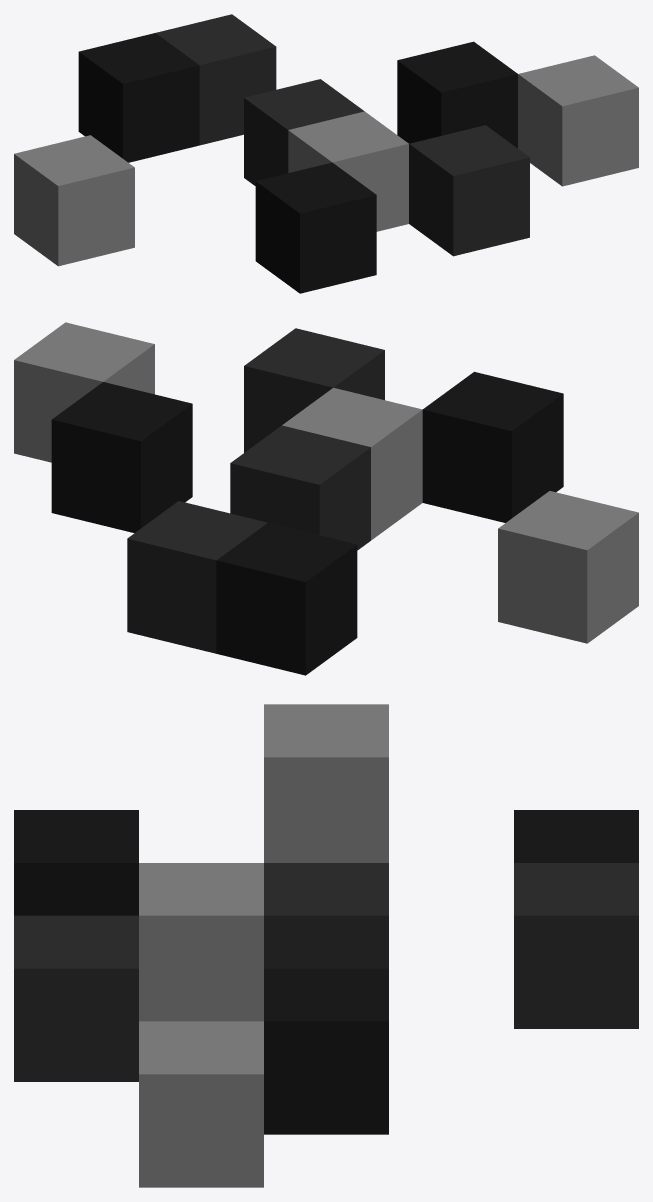
The model's file is Rocks1.fbx.
3 views of the same model, one above another, from view 1: azimuth 30°, elevation 25°; view 2: azimuth 150°, elevation 25°; view 3: azimuth 270°, elevation 25° (orthographic). The views are drawn at different scales.
Visible parts, largest first — view 1: Enviroment 2.008; view 2: Enviroment 2.008; view 3: Enviroment 2.008.
Boxes of the visible parts, left/top/right/bottom form: Enviroment 2.008: left=14, top=14, right=638, bottom=293; Enviroment 2.008: left=14, top=322, right=638, bottom=675; Enviroment 2.008: left=14, top=704, right=638, bottom=1187.
Size of the model in its own units: 0.7 by 0.1 by 0.5.
